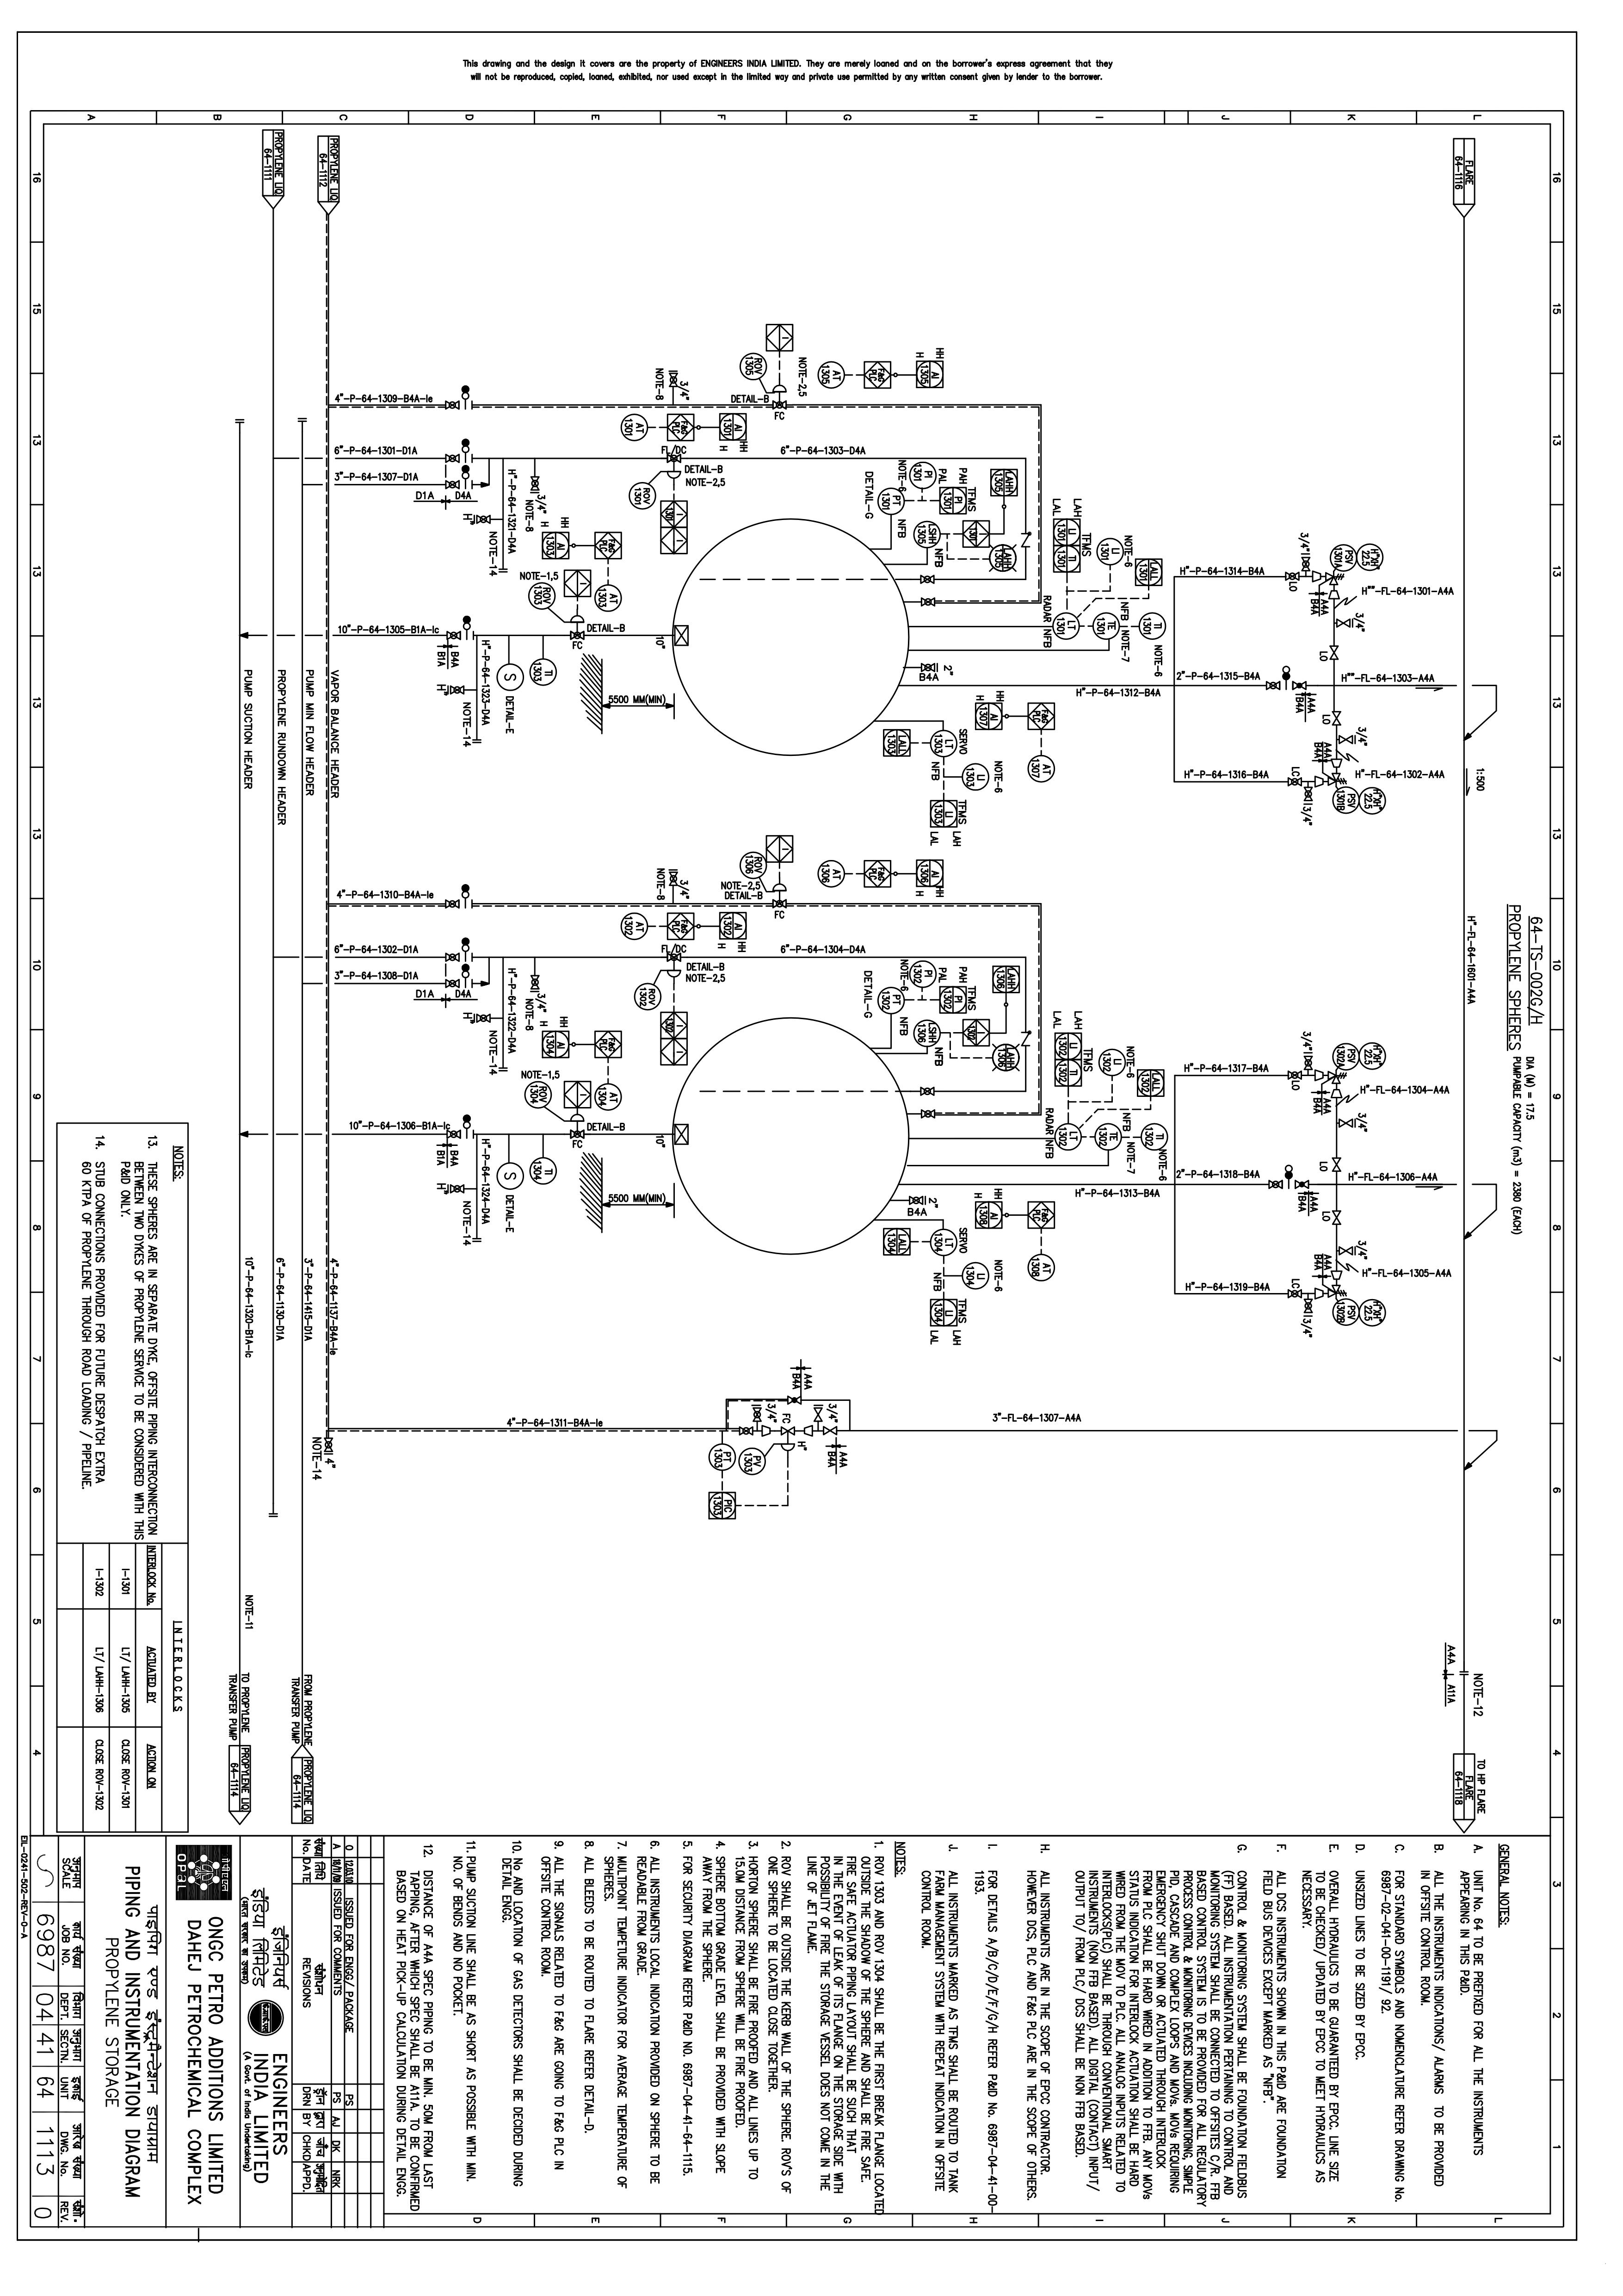ball valve: (913, 592, 943, 617), (1015, 531, 1036, 557), (471, 1008, 499, 1028), (434, 894, 460, 913), (444, 680, 472, 697), (913, 659, 941, 676), (564, 610, 587, 631), (806, 1405, 829, 1426), (437, 975, 464, 993), (323, 1435, 341, 1462), (919, 571, 940, 592), (901, 1191, 929, 1207), (1310, 566, 1331, 587), (664, 868, 683, 891), (1017, 1029, 1036, 1052), (439, 450, 464, 467), (660, 466, 685, 483), (437, 949, 462, 966), (820, 1423, 845, 1440), (437, 478, 464, 494), (775, 1442, 801, 1458), (915, 1110, 941, 1126), (474, 508, 494, 529), (525, 971, 545, 993), (1284, 1065, 1305, 1084), (915, 1084, 938, 1101), (1256, 680, 1284, 694), (439, 629, 464, 645), (443, 393, 460, 415), (768, 880, 794, 894), (769, 896, 790, 913), (748, 1402, 764, 1425), (783, 1393, 806, 1409), (1291, 1177, 1314, 1193), (1282, 1286, 1305, 1302), (769, 383, 790, 399), (1300, 1054, 1316, 1075), (1314, 1068, 1335, 1084), (1279, 571, 1305, 583), (1328, 641, 1342, 664), (1291, 676, 1309, 694), (446, 1182, 465, 1198), (1330, 1156, 1345, 1175), (1335, 615, 1354, 631), (662, 950, 687, 963), (1330, 706, 1342, 731), (1335, 736, 1358, 748), (1328, 755, 1344, 773), (664, 966, 683, 980), (1268, 1179, 1288, 1193), (1338, 1244, 1358, 1258), (1337, 1117, 1356, 1131), (567, 1112, 588, 1124), (437, 994, 455, 1008), (567, 1126, 585, 1140), (803, 1423, 817, 1440), (1330, 1268, 1347, 1282), (1333, 1209, 1345, 1228), (1286, 776, 1305, 789), (1330, 1087, 1344, 1103), (1326, 587, 1342, 601), (780, 1425, 797, 1437), (444, 1128, 460, 1140), (439, 499, 457, 509), (1314, 1288, 1324, 1303)
